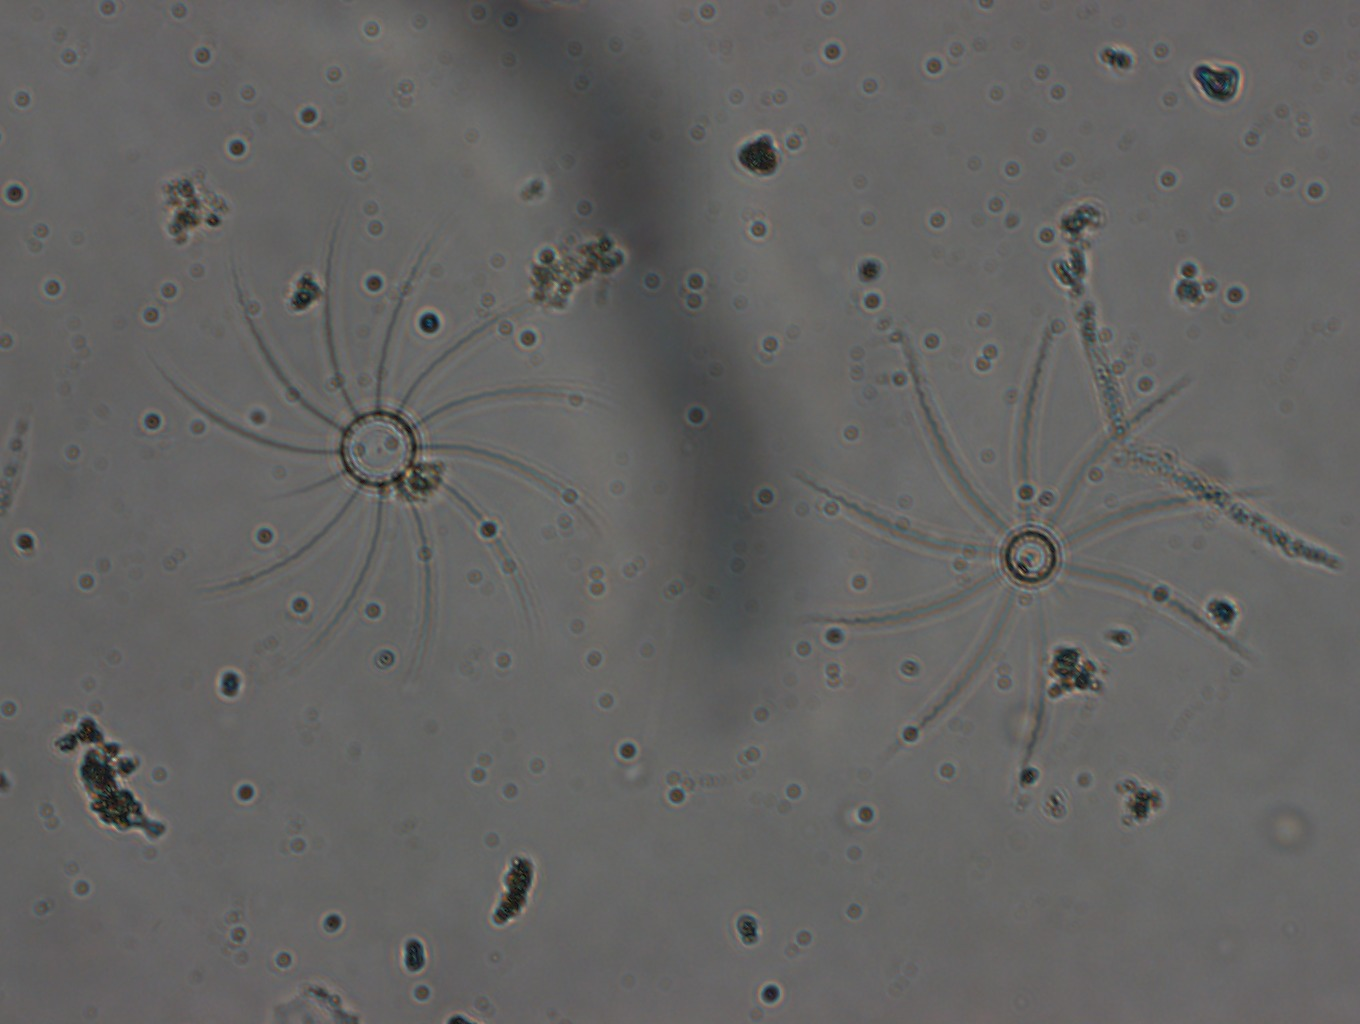bacteriastrum: (794, 310, 1275, 816), (143, 207, 603, 681)
